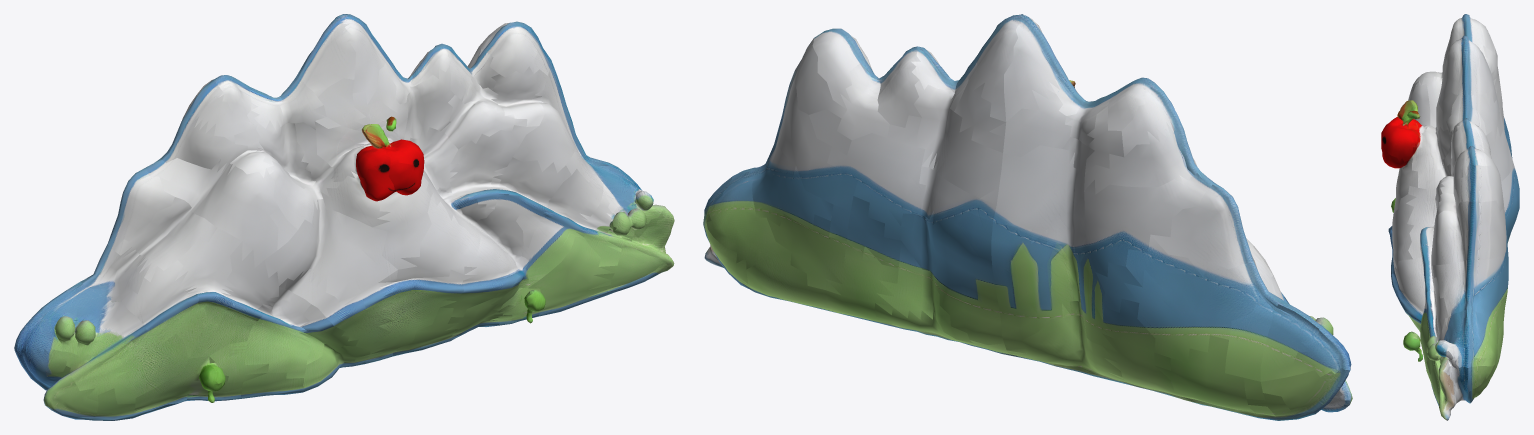
Rendered from s1_quality_felt_panel.glb.
3 views of the same model, side by side, from view 1: azimuth 30°, elevation 25°; view 2: azimuth 150°, elevation 25°; view 3: azimuth 270°, elevation 25° (orthographic). The views are drawn at different scales.
Size of the model in its own units: 1.91 by 0.9393 by 0.4423.
Materials: 1 (1 with a texture image).
